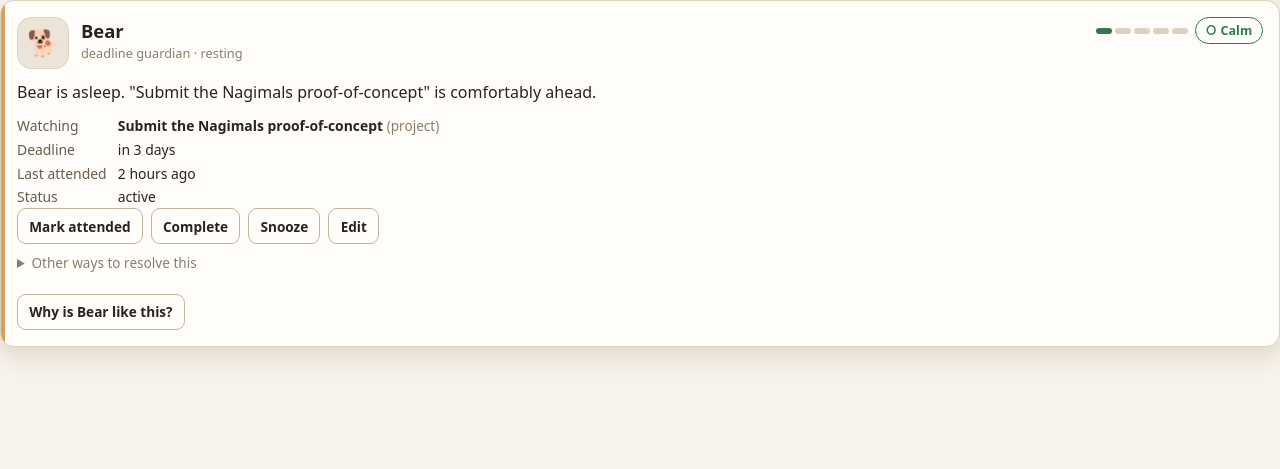
NagimalCard › offers every meaningful action, with the destructive ones tucked away
expect the button "Mark attended" is shown: met, box [17,208,143,244]
expect the button "Complete" is shown: met, box [151,208,240,244]
Click the heading "Other ways to resolve this": [114, 263] box [31,253,197,272]
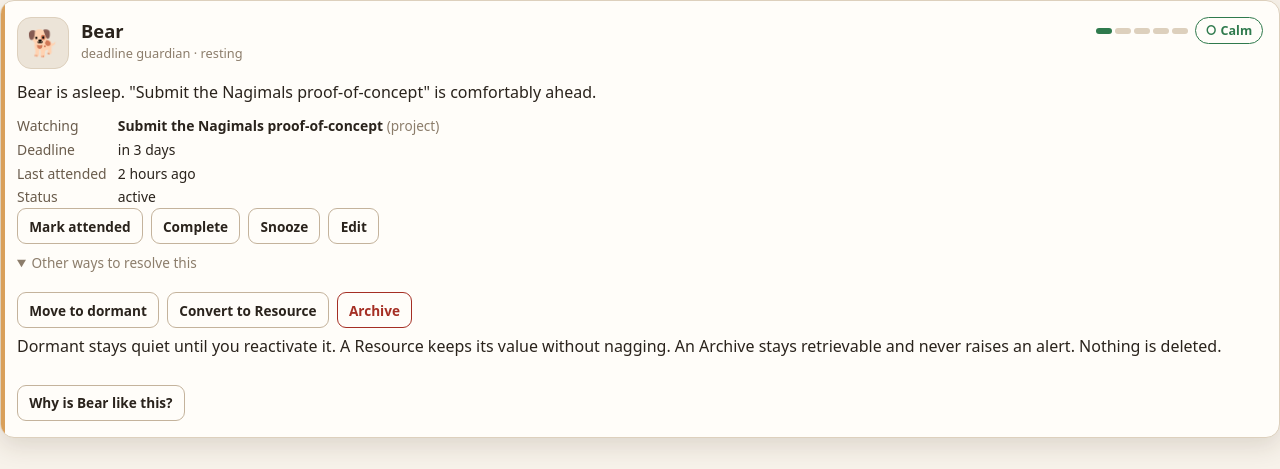
expect the button "Archive" is shown: met, box [337,292,412,328]
expect the button "Convert to Resource" is shown: met, box [167,292,329,328]
expect the button "Move to dormant" is shown: met, box [17,292,159,328]
